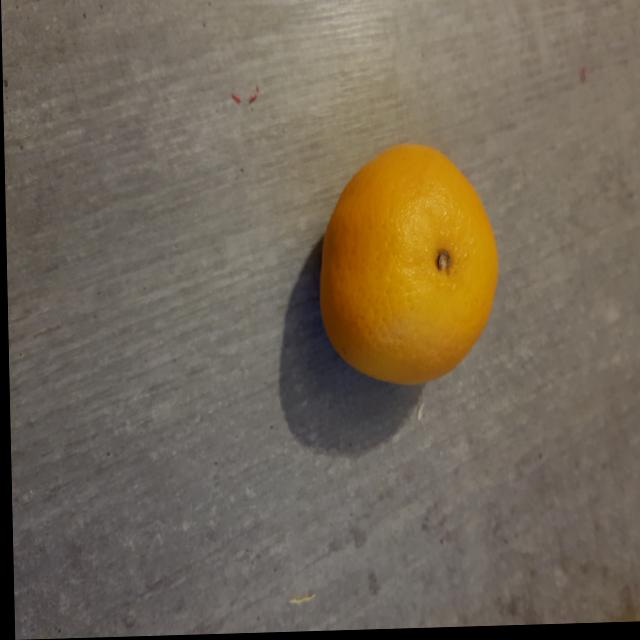Orange: (316, 144, 496, 389)
